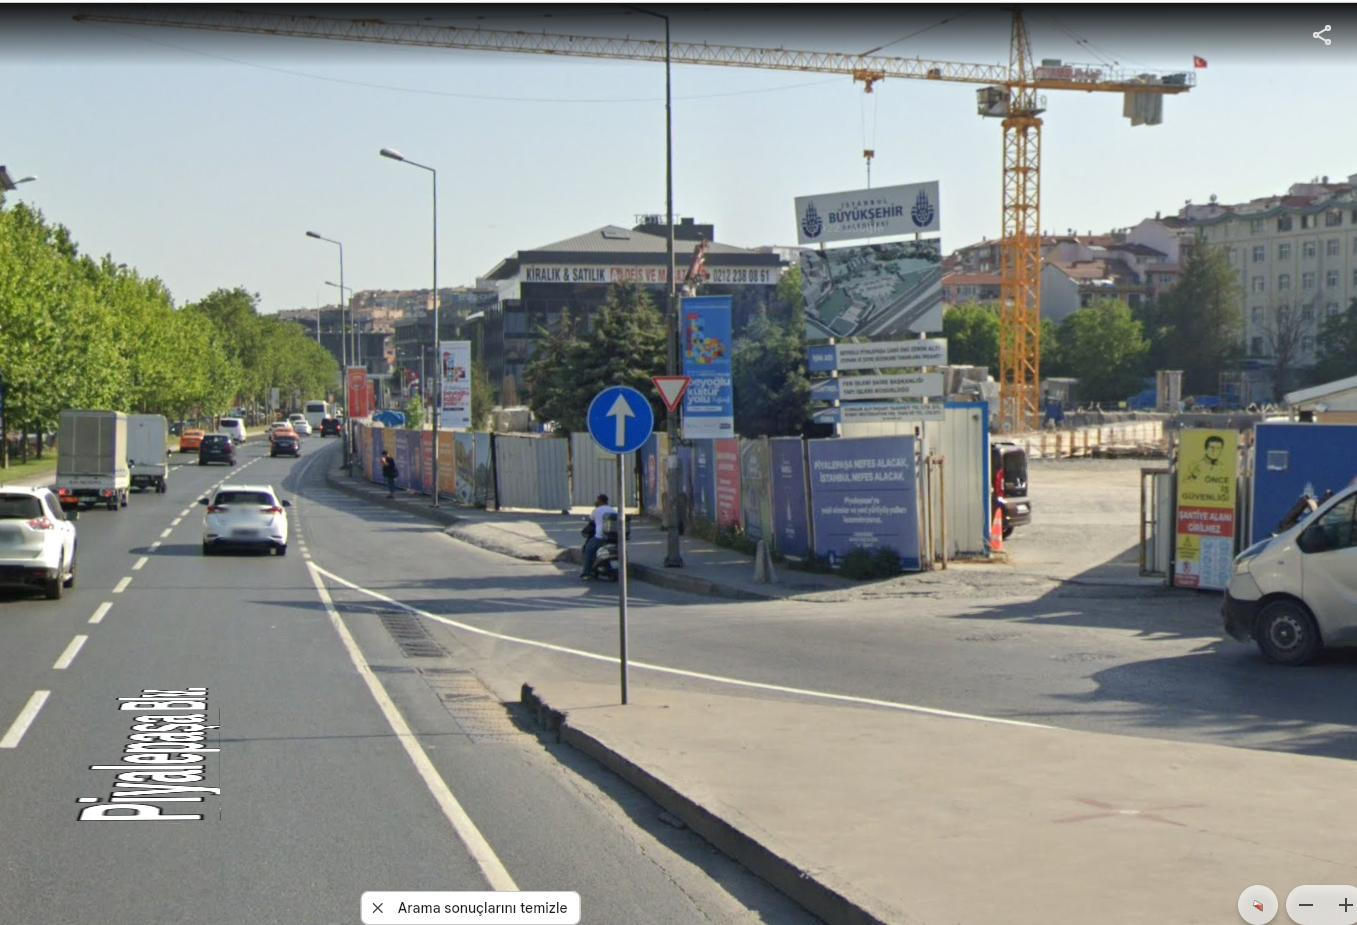forward: (588, 386, 655, 452)
